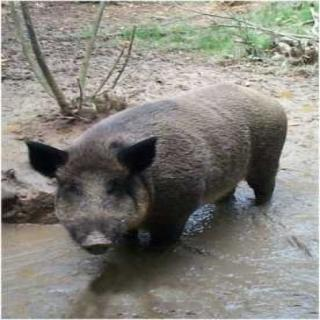Pig: (19, 64, 297, 284)
